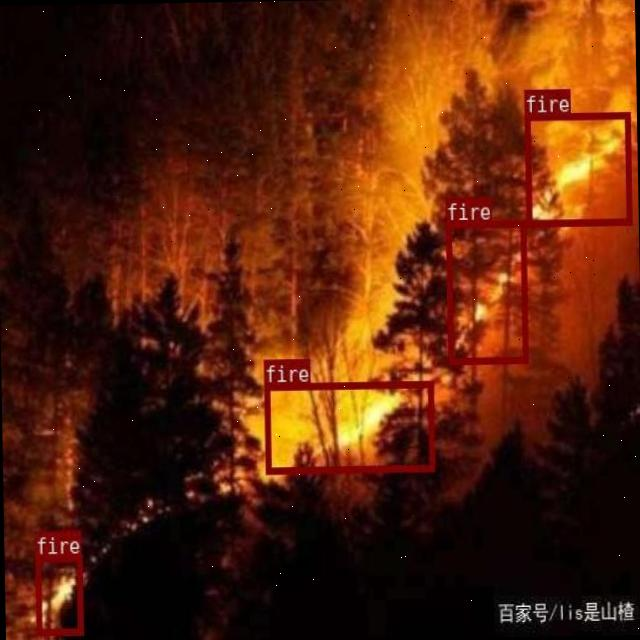fire: (263, 379, 434, 472), (524, 110, 632, 226), (444, 220, 526, 362), (34, 553, 81, 633)
